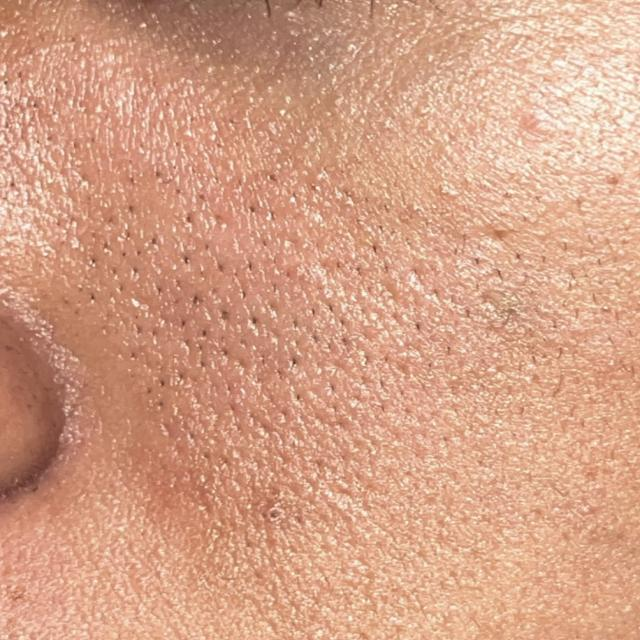blackhead: (44, 162, 566, 548)
